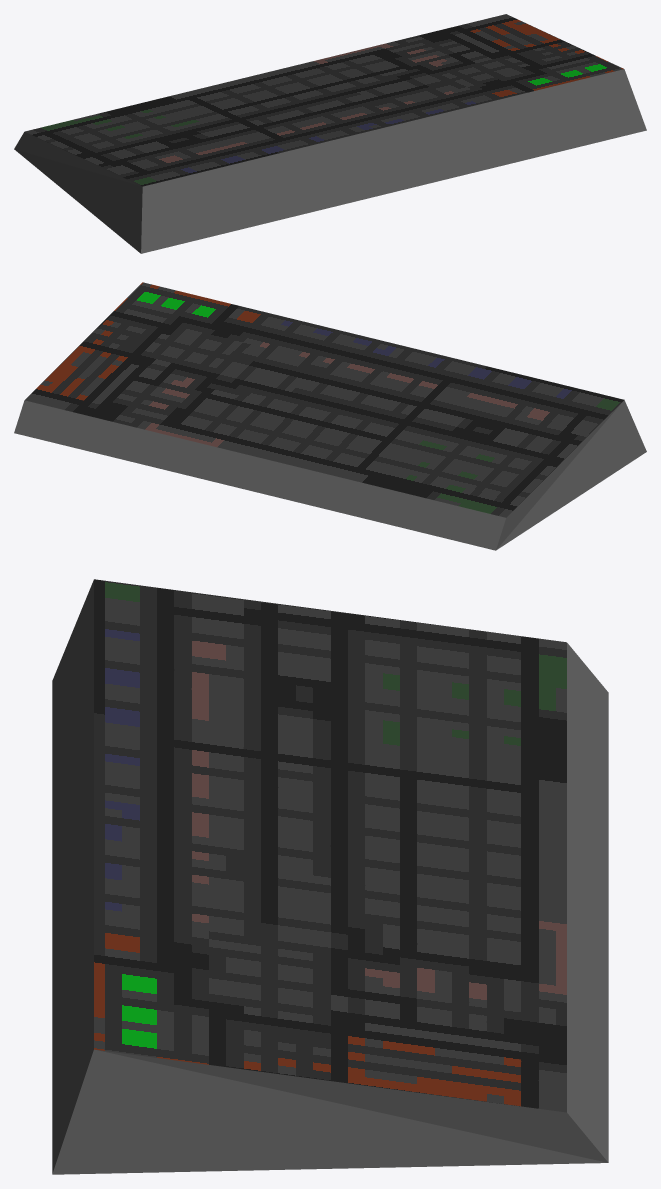
The picture shows the model from 3 angles, top to bottom: view 1: azimuth 30°, elevation 25°; view 2: azimuth 150°, elevation 25°; view 3: azimuth 270°, elevation 25°; orthographic projection. The views are drawn at different scales.
Parts seen in each view (by area): view 1: ss3d_04_keyboard; view 2: ss3d_04_keyboard; view 3: ss3d_04_keyboard.
Boxes of the visible parts, x1,y1,x2,y2 form: ss3d_04_keyboard: (14, 14, 646, 253); ss3d_04_keyboard: (14, 282, 646, 550); ss3d_04_keyboard: (52, 579, 608, 1174).
Size of the model in its own units: 0.2953 by 0.0316 by 0.1406.
Materials: 1 (1 with a texture image).
